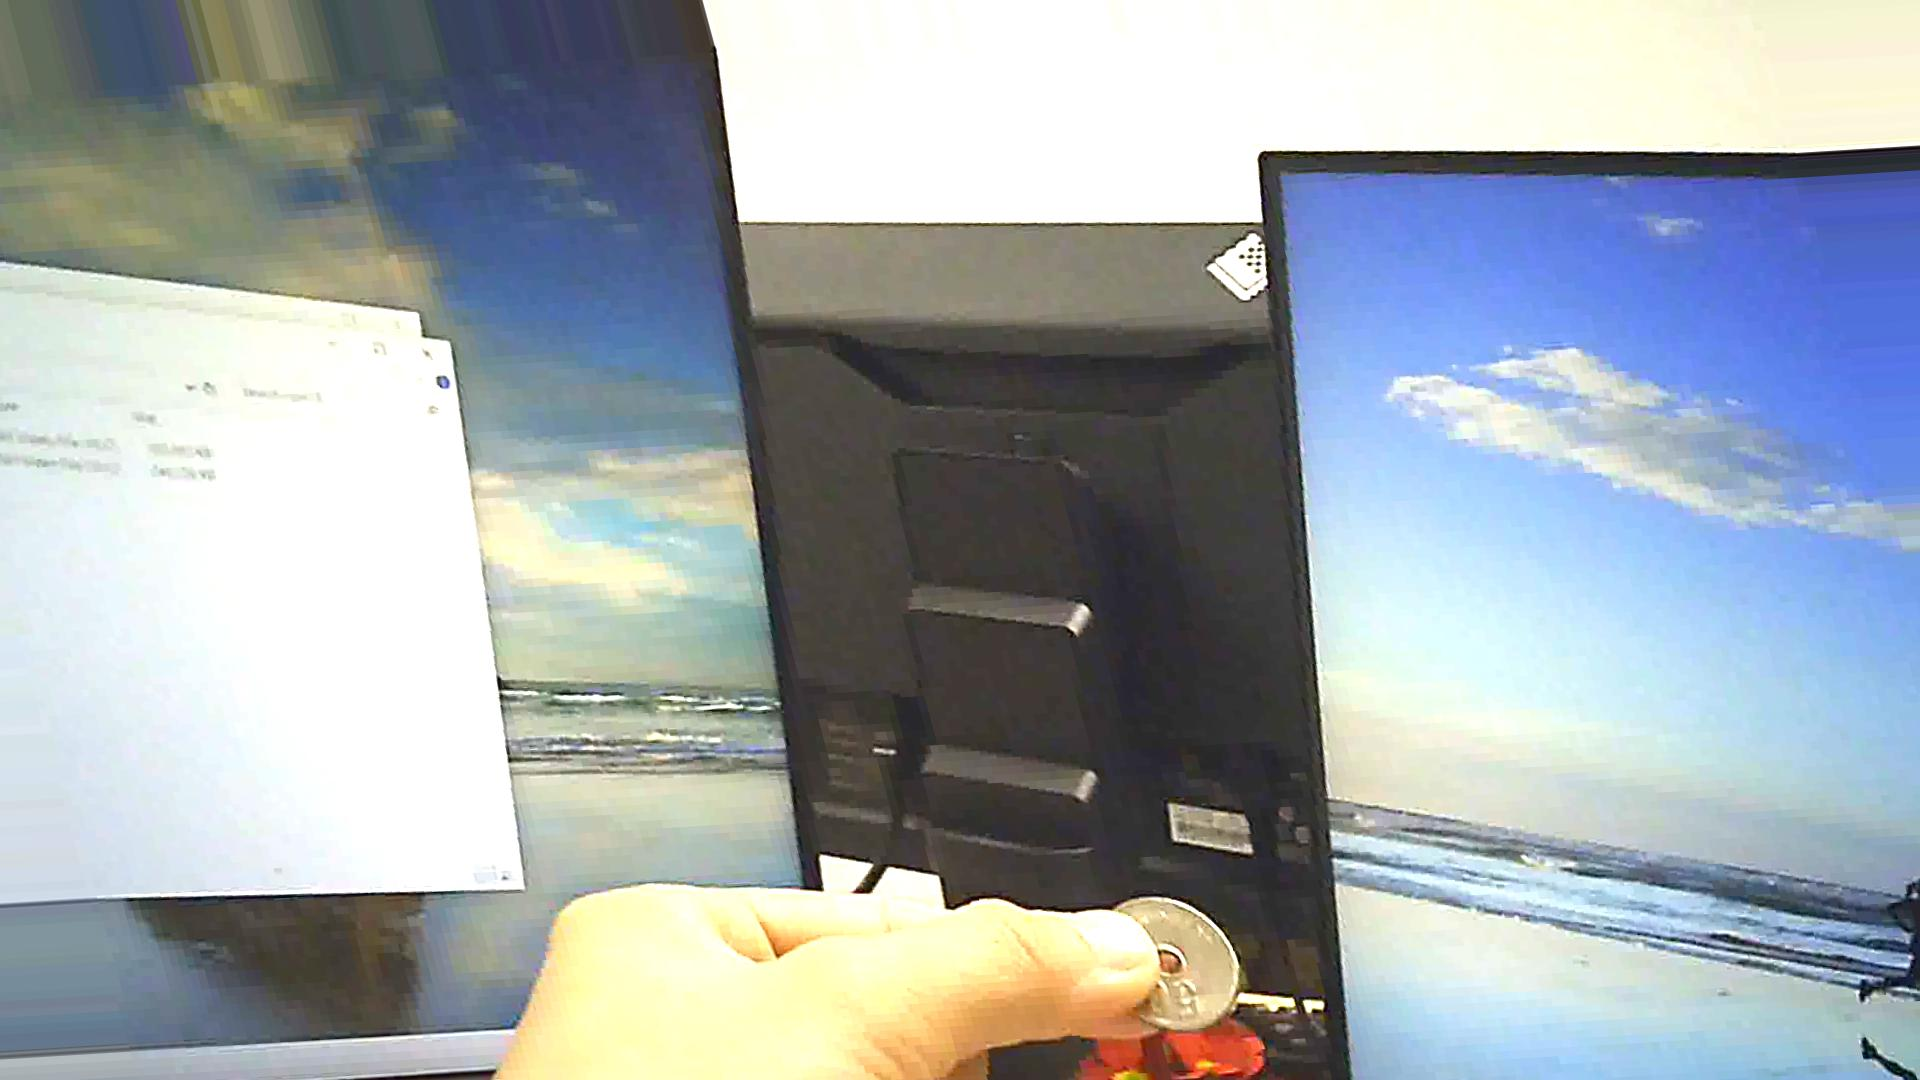50 Yen: (1091, 891, 1255, 1035)
